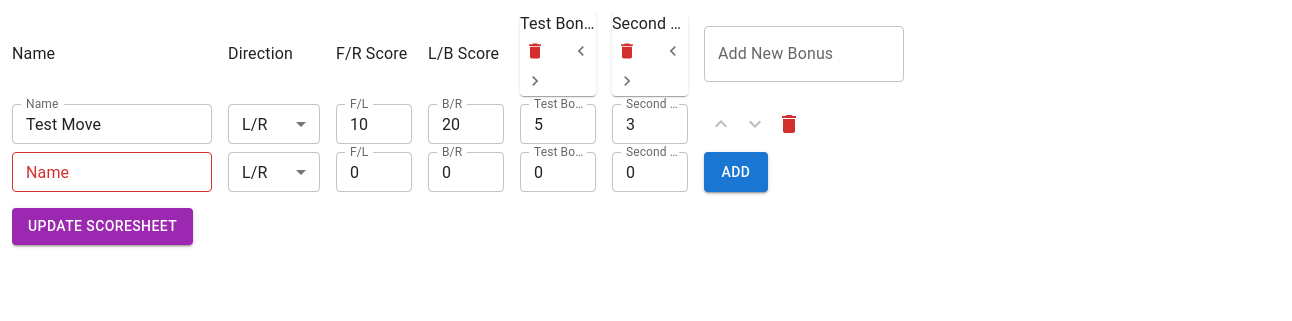
Scenario: ScoresheetMoves › unsaved changes warning › is shown after bonus columns are reordered
Check: the 1st field showing "Test Move" is shown, box [12, 104, 212, 144]
Click the button with test id "move-bonus-right-Test Bonus".
click(535, 81)  # box [520, 66, 550, 96]
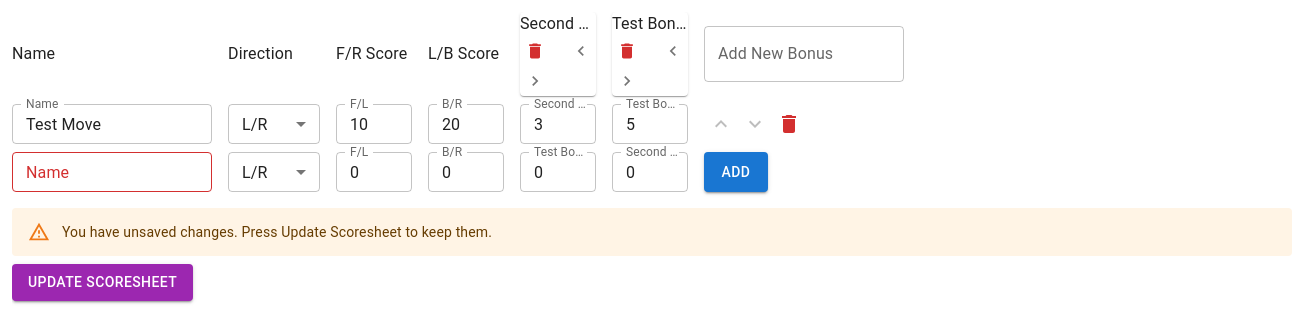
Check: the text "unsaved changes" is shown, box [62, 224, 492, 240]
